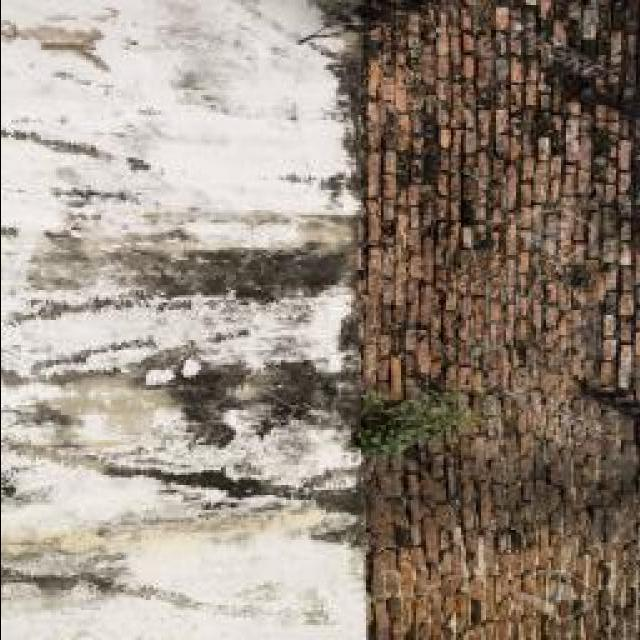crack: (329, 0, 638, 637)
dampens: (8, 78, 379, 625)
